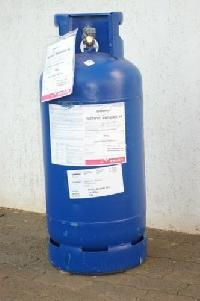blue_gas: (39, 12, 146, 275)
